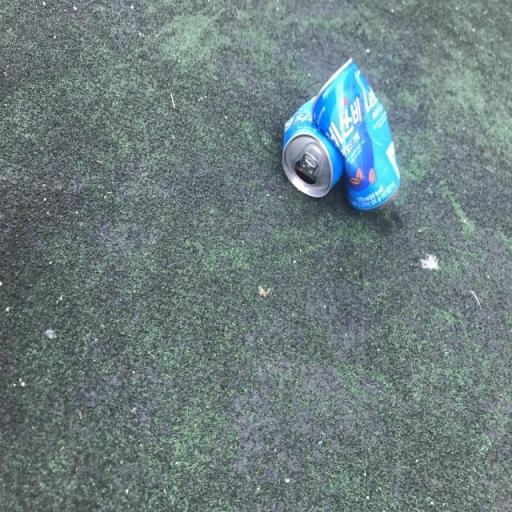metal: (270, 47, 412, 240)
